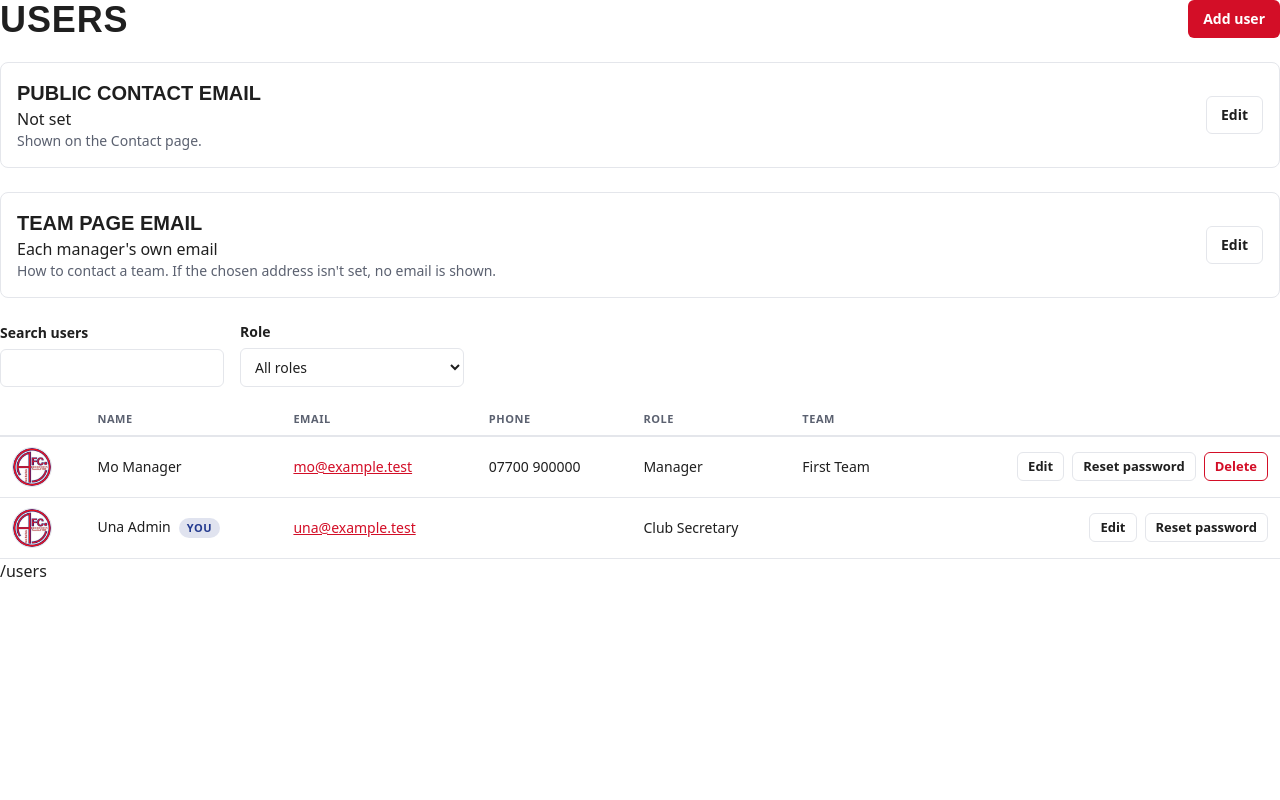
Test: UserDialog › locks your own role and never sends it
The width and height of the screenshot is (1280, 800).
Click the button "Edit" in the row of "Una Admin" at coordinates (1113, 528), box x1=1089 y1=513 x2=1136 y2=542
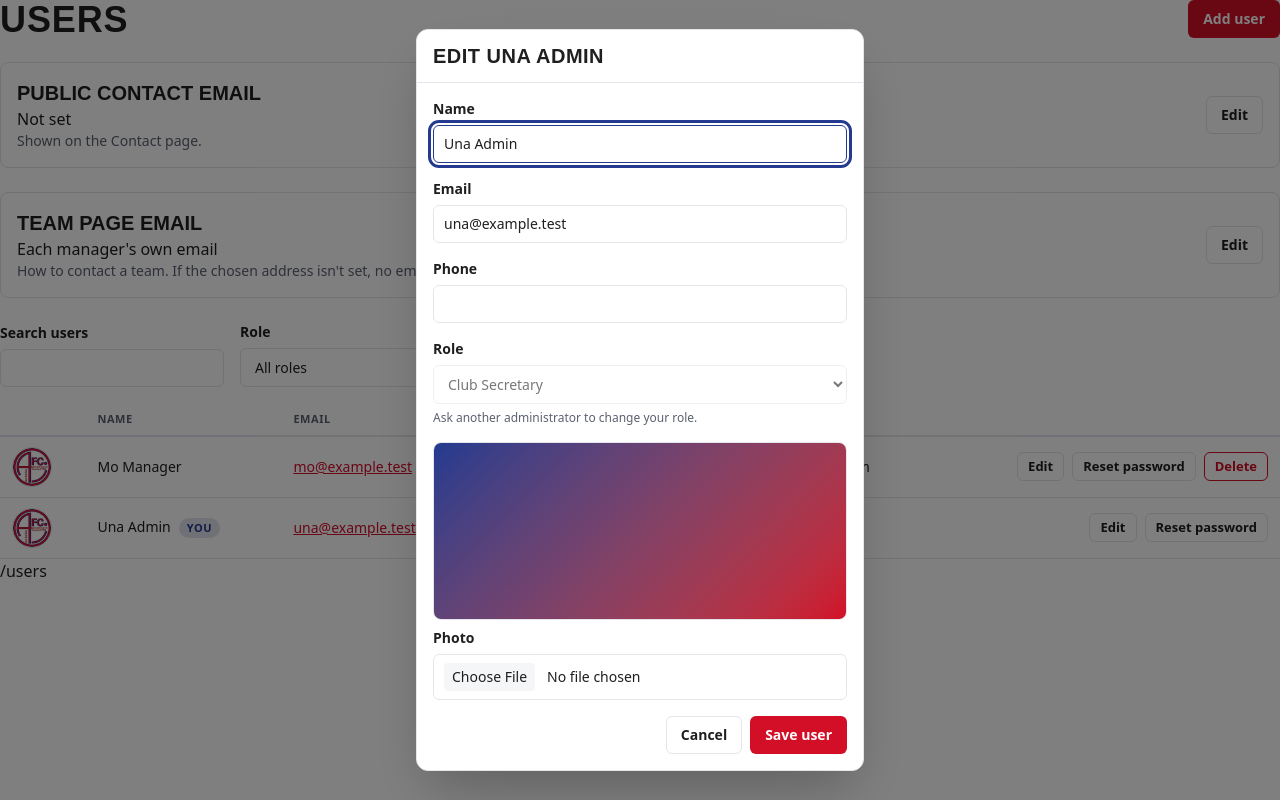
Type "01234" into the field labelled "Phone" at coordinates (640, 304), box x1=433 y1=285 x2=847 y2=323
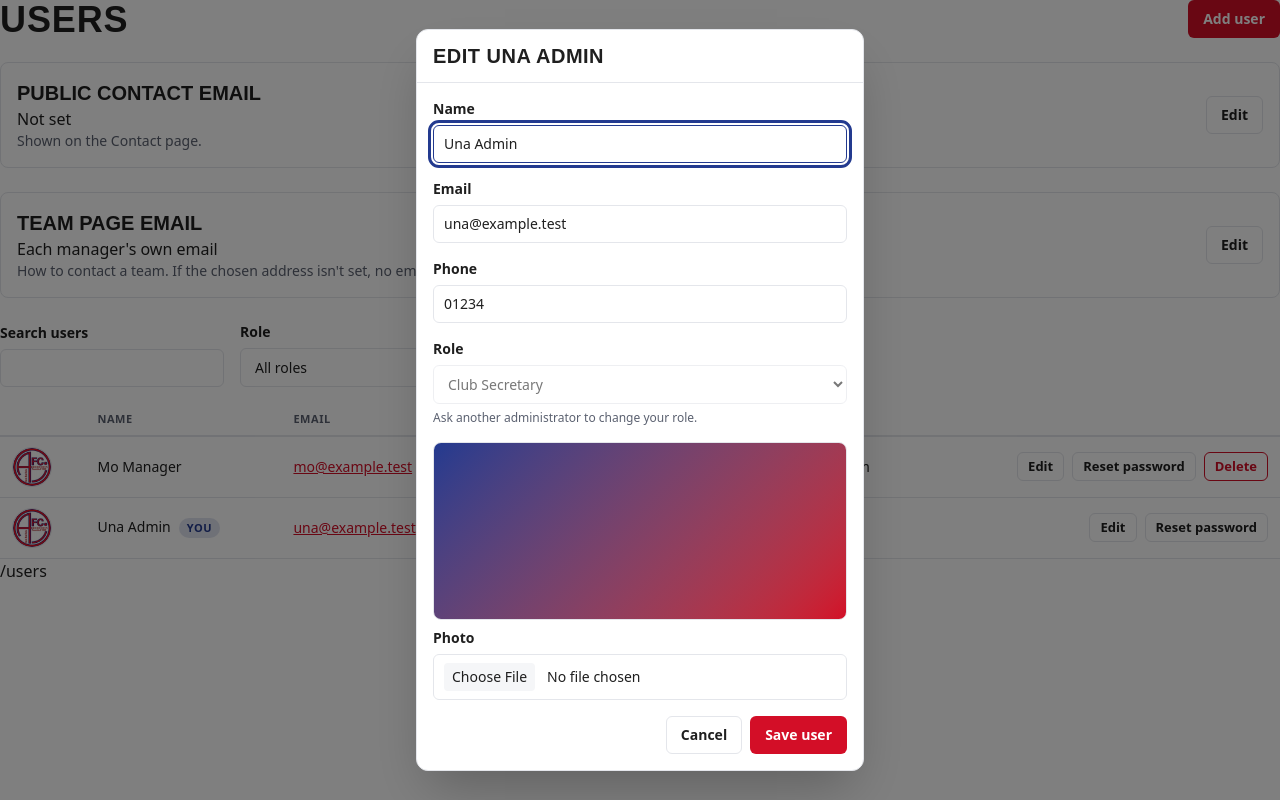
Click the button "Save user" at coordinates (799, 735), box x1=750 y1=716 x2=847 y2=754
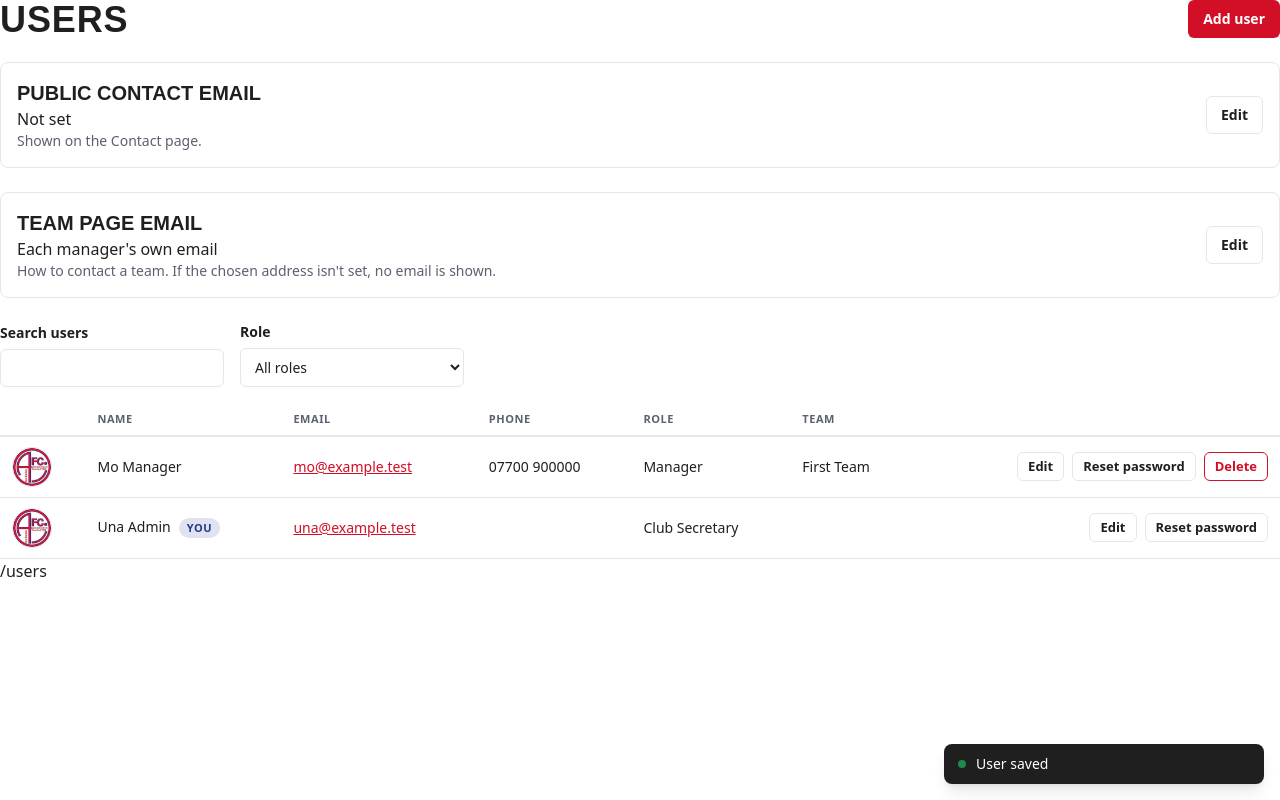
Result: the button "User saved" is shown at x1=944 y1=744 x2=1264 y2=784
